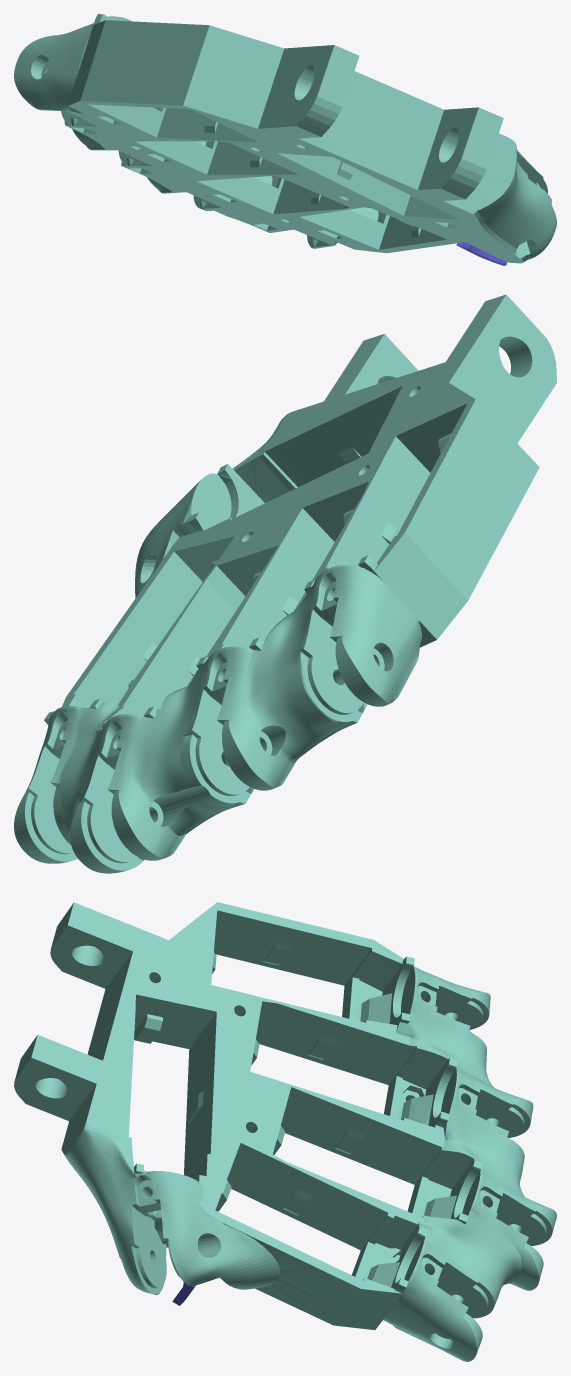
File: left_wrist_z_link_visual_3.obj
The picture shows the model from 3 angles, top to bottom: view 1: azimuth 30°, elevation 25°; view 2: azimuth 150°, elevation 25°; view 3: azimuth 270°, elevation 25°; orthographic projection. The views are drawn at different scales.
Visible parts, largest first — view 1: L_KidsBaseV4.009_visual.001; view 2: L_KidsBaseV4.009_visual.001; view 3: L_KidsBaseV4.009_visual.001.
Part boxes in pixels (<box>): L_KidsBaseV4.009_visual.001: <box>14,14,556,265</box>; L_KidsBaseV4.009_visual.001: <box>14,294,556,873</box>; L_KidsBaseV4.009_visual.001: <box>14,902,556,1361</box>.
Size of the model in its own units: 0.9967 by 0.9886 by 1.31.
